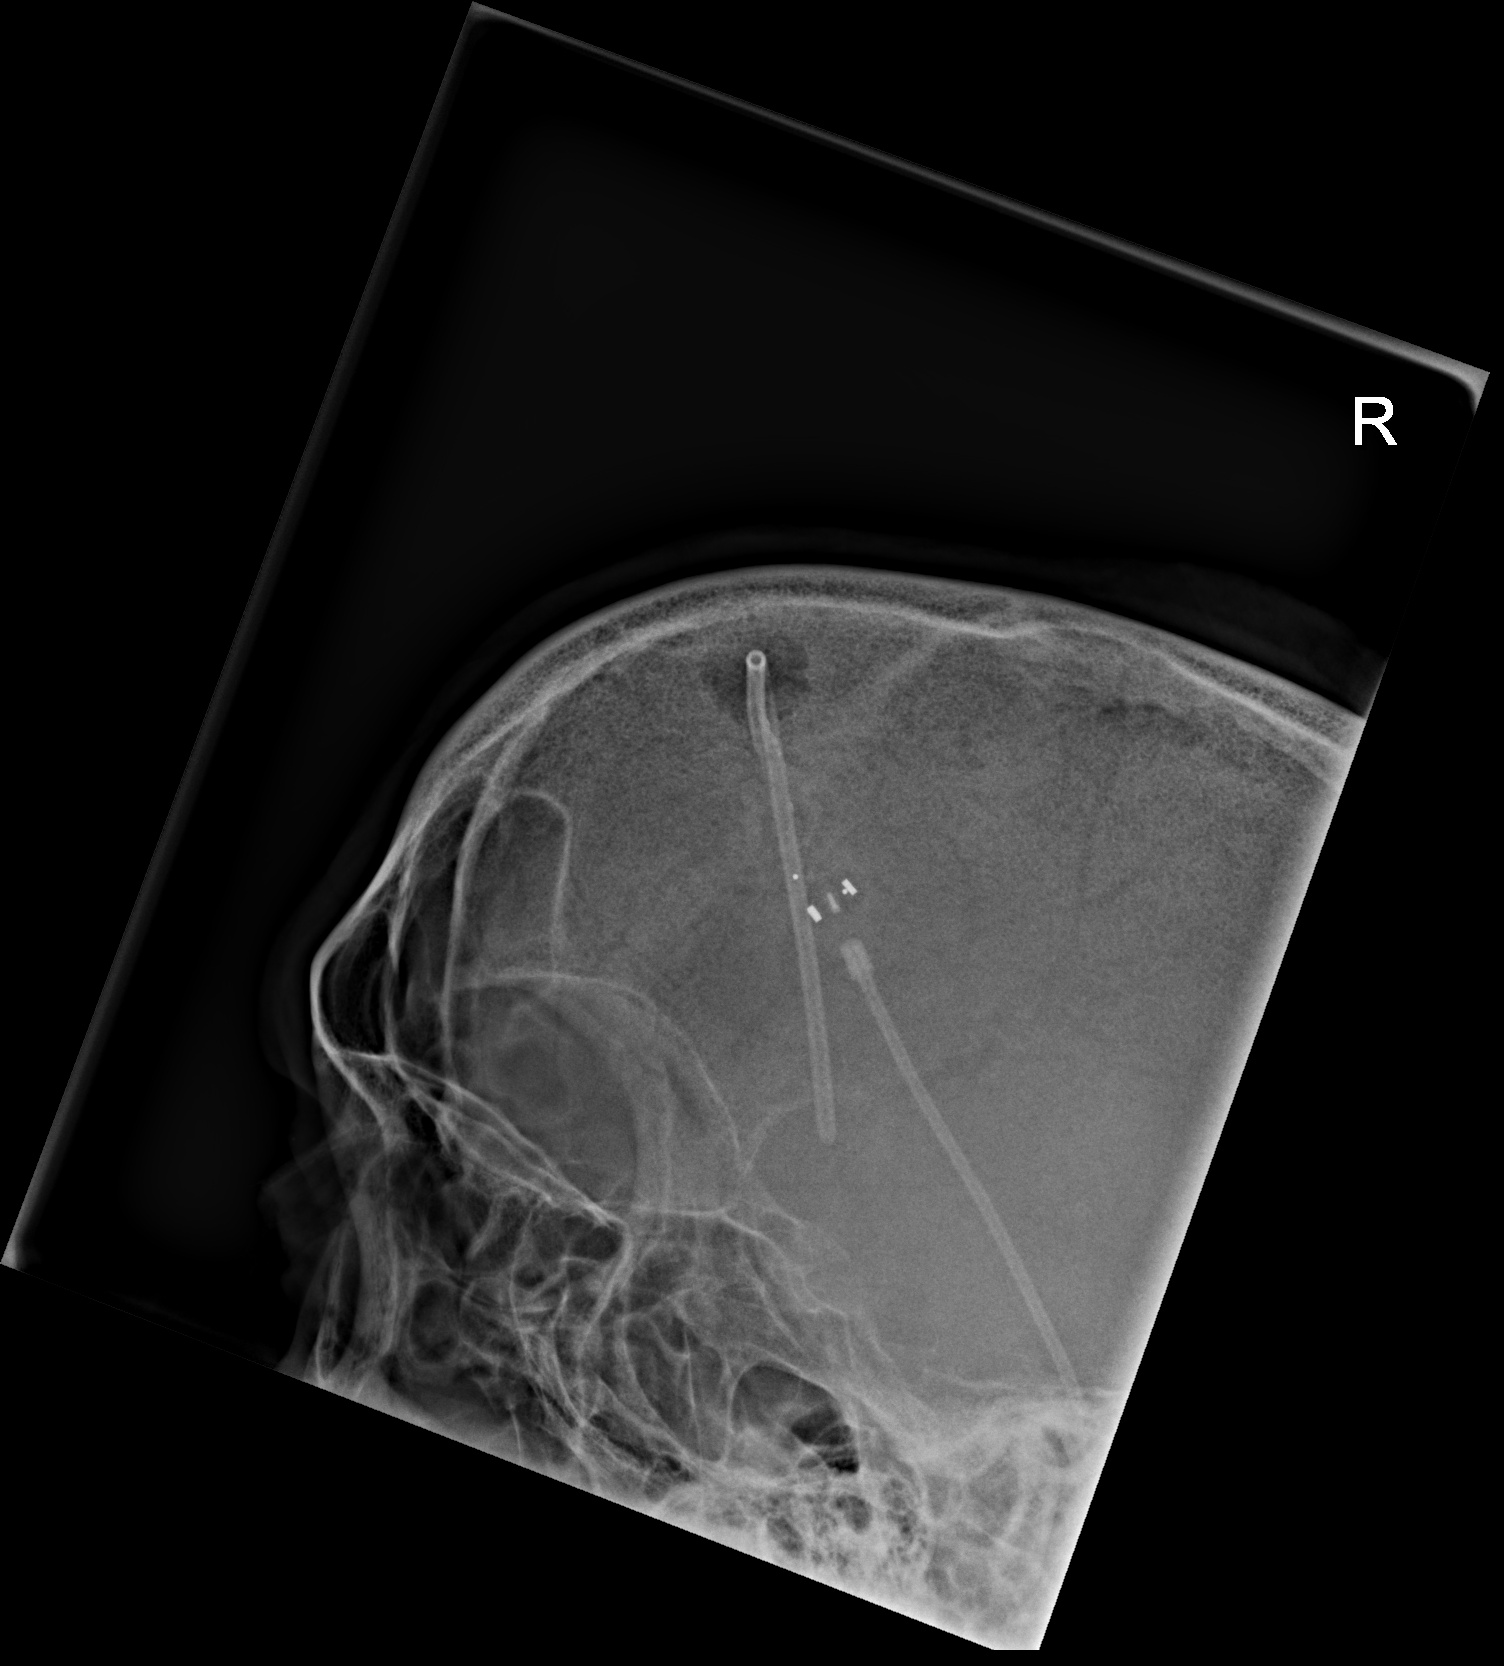Codman Certas: (780, 858, 878, 958)
